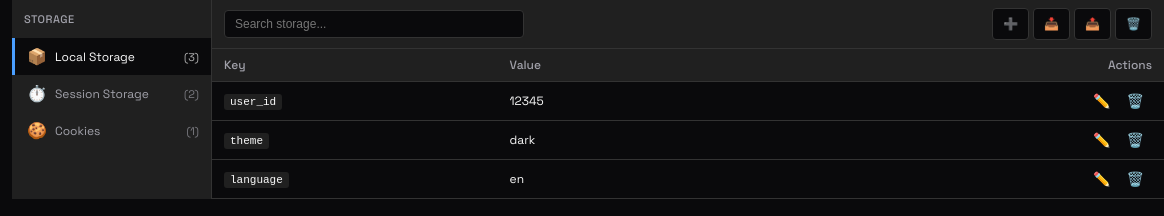
Scenario: StorageTab › should cancel edit when Escape is pressed
The image size is (1164, 216).
// Start editing
Click the button titled "Edit" in the row of "theme": coordinates (1102, 140) 1085,127 -> 1119,153
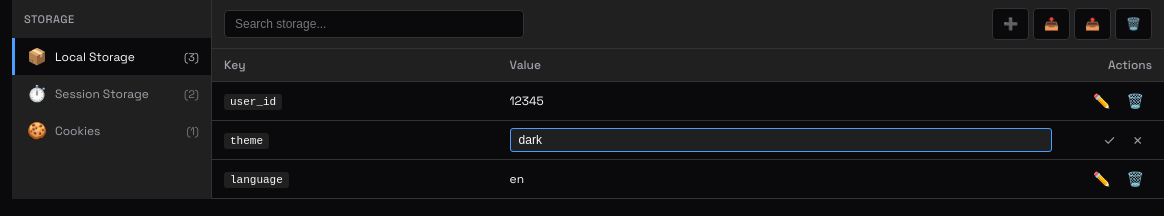
Now the field with class "edit-input" is shown
// Press Escape
Press Escape in the field with class "edit-input", box 510,128 -> 1052,152
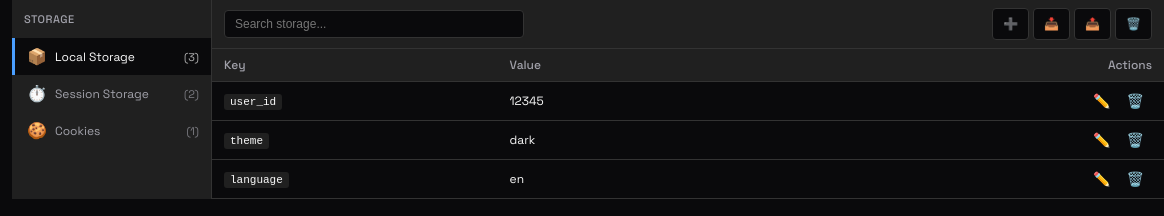
Now the field with class "edit-input" is gone
